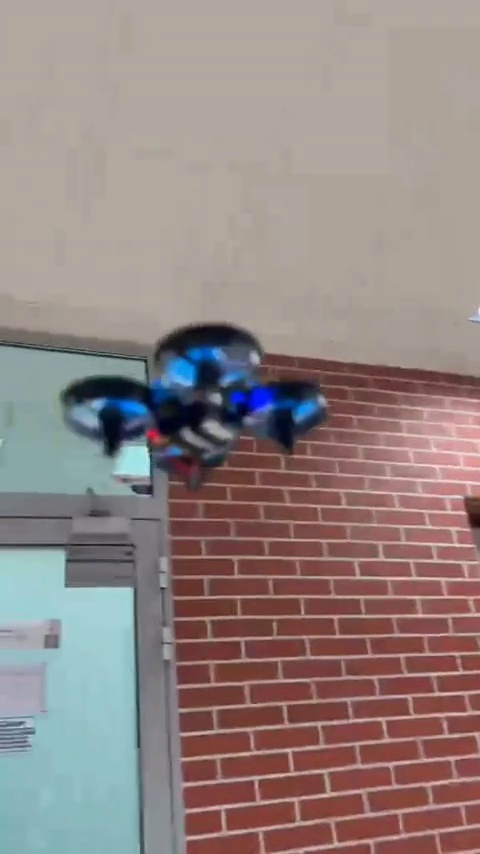drone: (56, 318, 331, 491)
